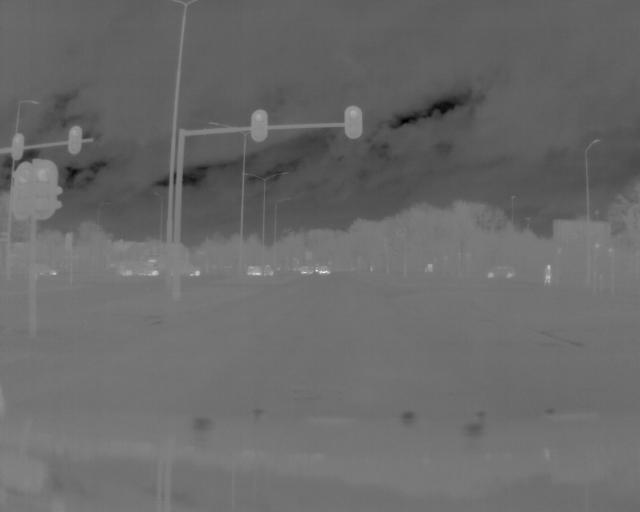car: (119, 257, 161, 280), (485, 263, 517, 281), (248, 261, 276, 279), (317, 263, 332, 276)
person: (540, 264, 555, 292)
